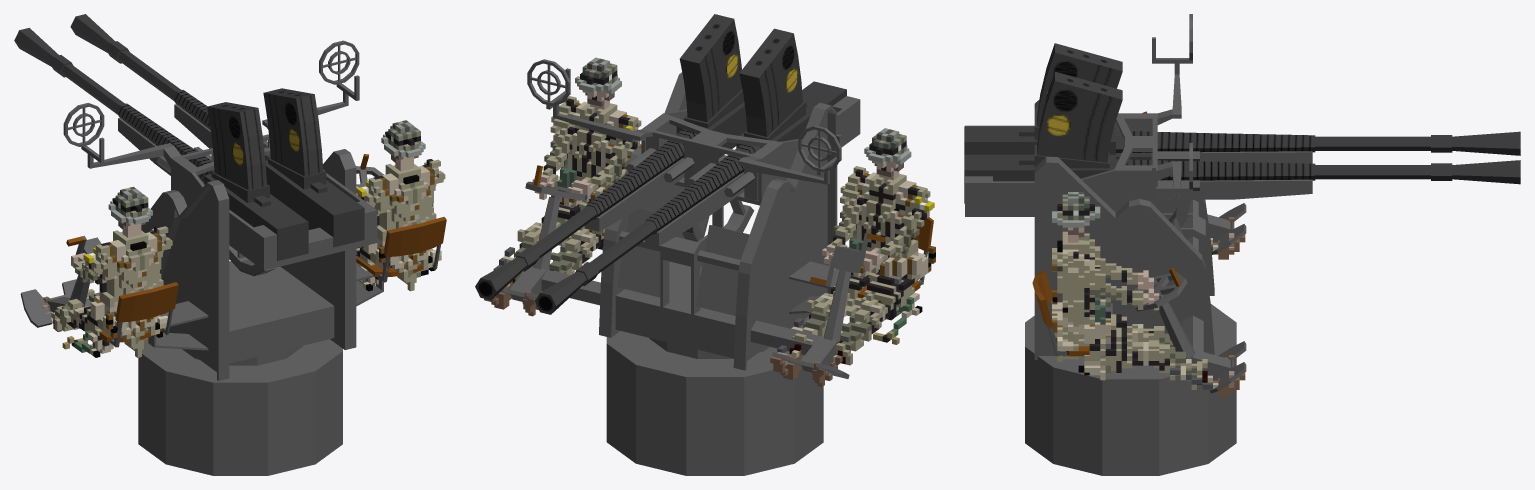
File: aa_gun.glb
3 renders of one model, left to right at view 1: azimuth 30°, elevation 25°; view 2: azimuth 150°, elevation 25°; view 3: azimuth 270°, elevation 25°, orthographic. The views are drawn at different scales.
Visible parts, largest first — view 1: 02_turret_type96_turret.mesh, 00_chassis_type96_base.mesh, crew_soldier_SLOT_00_GUNNER, crew_soldier_SLOT_01_PASSENGER, weapon_turret_0_type96_gun.mesh; view 2: 02_turret_type96_turret.mesh, 00_chassis_type96_base.mesh, crew_soldier_SLOT_00_GUNNER, crew_soldier_SLOT_01_PASSENGER, weapon_turret_0_type96_gun.mesh; view 3: 02_turret_type96_turret.mesh, 00_chassis_type96_base.mesh, crew_soldier_SLOT_01_PASSENGER, weapon_turret_0_type96_gun.mesh.
Boxes of the visible parts, x1,y1,x2,y2 form: 02_turret_type96_turret.mesh: (20,40,446,380); 00_chassis_type96_base.mesh: (138,339,342,475); crew_soldier_SLOT_00_GUNNER: (42,186,172,357); crew_soldier_SLOT_01_PASSENGER: (356,120,445,291); weapon_turret_0_type96_gun.mesh: (14,14,270,181); 02_turret_type96_turret.mesh: (500,14,933,378); 00_chassis_type96_base.mesh: (606,316,823,475); crew_soldier_SLOT_00_GUNNER: (770,128,935,386); crew_soldier_SLOT_01_PASSENGER: (484,57,641,316); weapon_turret_0_type96_gun.mesh: (475,129,760,314); 02_turret_type96_turret.mesh: (964,14,1312,393); 00_chassis_type96_base.mesh: (1025,304,1236,475); crew_soldier_SLOT_01_PASSENGER: (1052,192,1245,397); weapon_turret_0_type96_gun.mesh: (1115,130,1520,184).
Bounding box in the file's own units: 2.46 × 2.37 × 3.24.
Materials: 37 (1 with a texture image).
